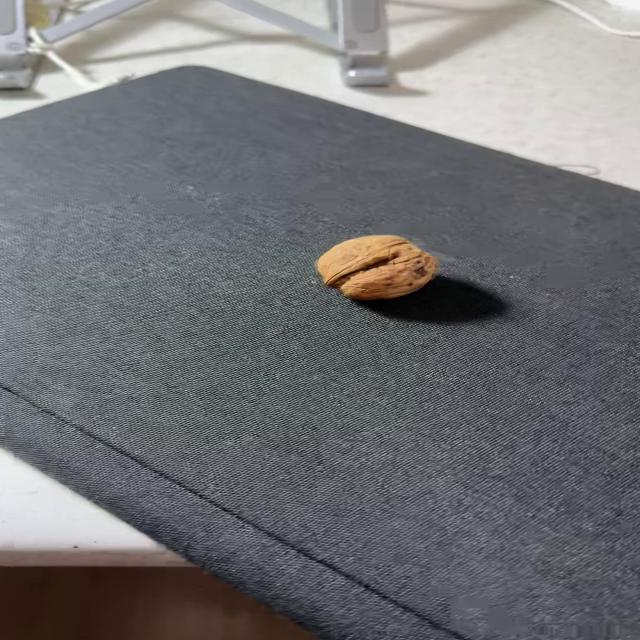nuts-good: (317, 235, 438, 300)
